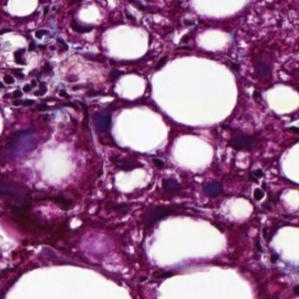inflammation: (3, 28, 71, 116), (248, 48, 279, 83), (248, 166, 271, 208), (157, 172, 185, 200), (91, 107, 115, 138), (198, 178, 228, 202)
